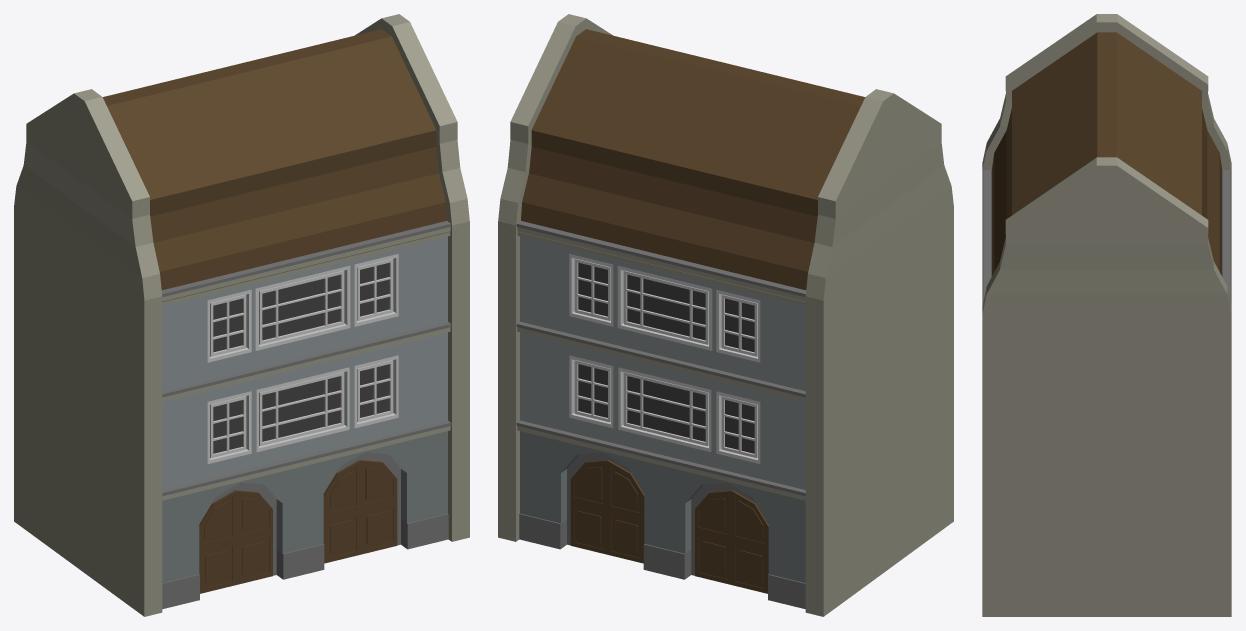
The model's file is Building2_Small.glb.
3 views of the same model, side by side, from view 1: azimuth 30°, elevation 25°; view 2: azimuth 150°, elevation 25°; view 3: azimuth 270°, elevation 25° (orthographic). The views are drawn at different scales.
Parts seen in each view (by area): view 1: Building2_Small; view 2: Building2_Small; view 3: Building2_Small.
Part boxes in pixels (x1=…): Building2_Small: x1=14, y1=14, x2=469, y2=616; Building2_Small: x1=498, y1=14, x2=953, y2=616; Building2_Small: x1=982, y1=14, x2=1231, y2=616.
Size of the model in its own units: 3.58 by 4.97 by 2.49.
